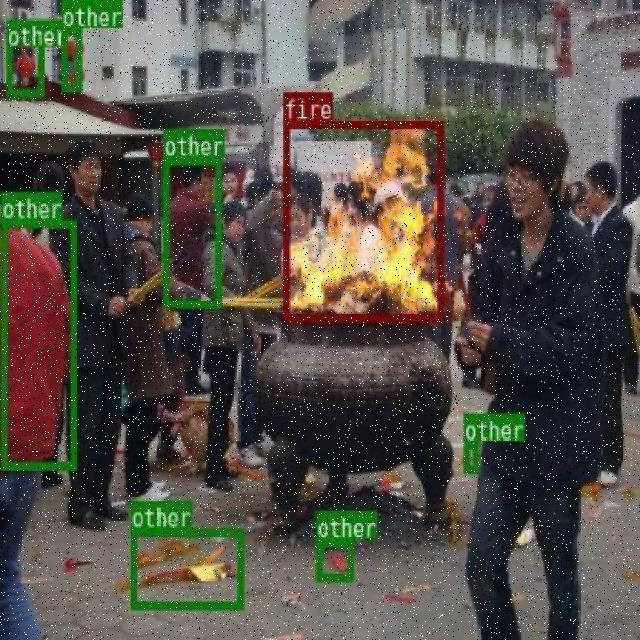Smoke: (0, 218, 74, 470), (162, 154, 221, 308), (130, 528, 242, 608), (6, 17, 43, 94), (316, 538, 352, 580), (61, 27, 81, 90), (463, 442, 477, 472)
